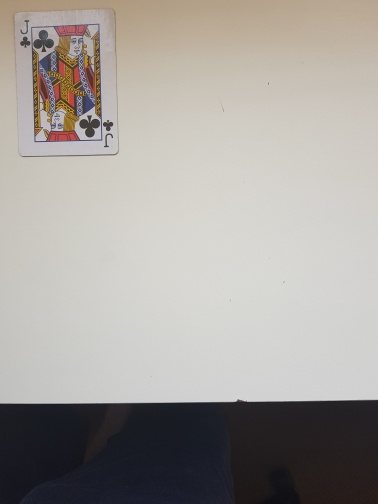jack: (12, 7, 120, 159)
